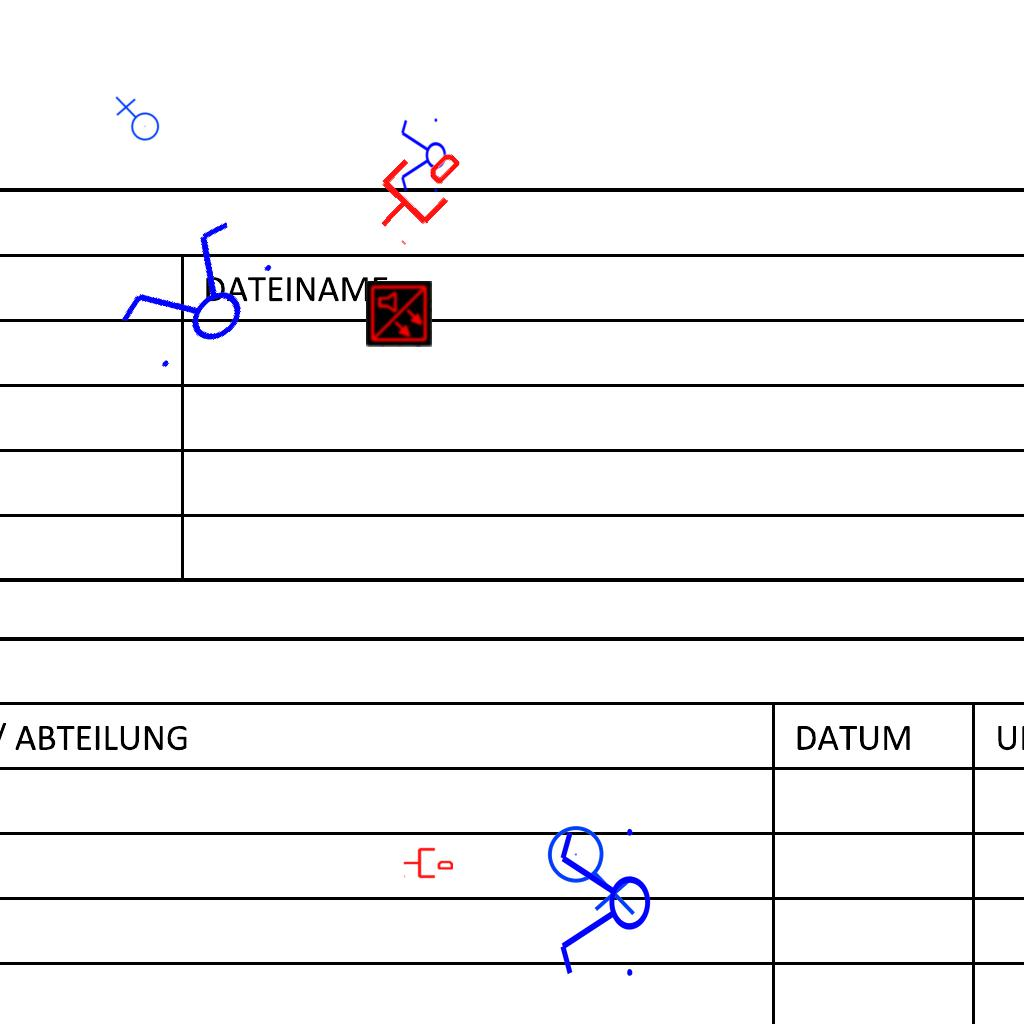Datenanschluss_einfach: (356, 130, 477, 250), (403, 846, 453, 880)
Elektroanschluss_allgemein_230V_Geraeteanschlussdose_230V: (546, 817, 640, 916), (112, 95, 161, 146)
OKW_Multisensormelder_(Kombination_optischer_Rauch-Kahlenmonoxid_Waerme-Melder): (366, 281, 432, 347)
Serienschalter: (103, 205, 293, 391), (556, 820, 652, 988), (399, 114, 447, 198)
